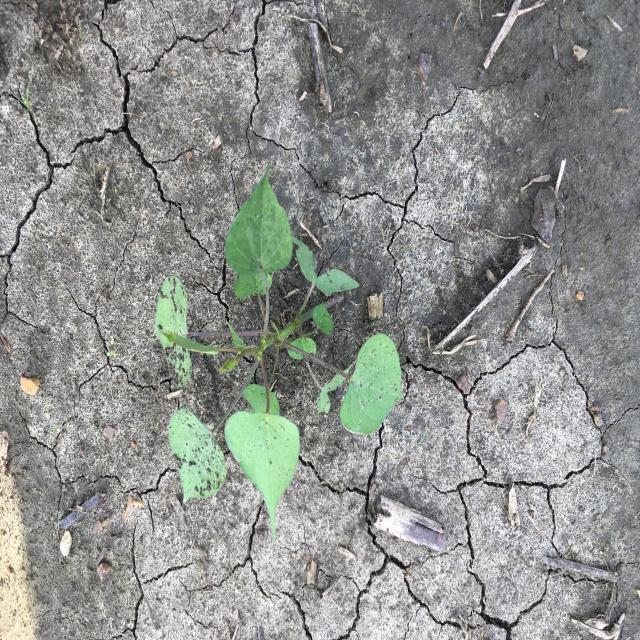MorningGlory: (152, 159, 408, 546)
